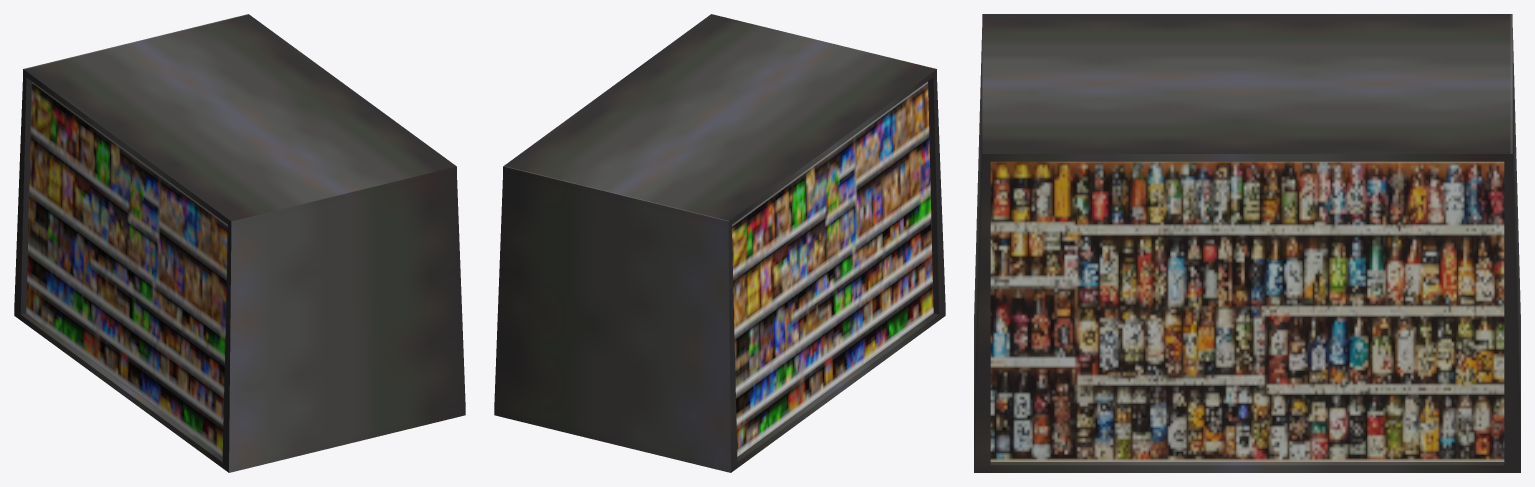
The model's file is grocery_store_ALCOOOL 1.fbx.
The picture shows the model from 3 angles, left to right: view 1: azimuth 30°, elevation 25°; view 2: azimuth 150°, elevation 25°; view 3: azimuth 270°, elevation 25°; orthographic projection. The views are drawn at different scales.
Parts seen in each view (by area): view 1: grocery_store_ALCOOOL; view 2: grocery_store_ALCOOOL; view 3: grocery_store_ALCOOOL.
Part boxes in pixels (x1,y1,x2,y2): grocery_store_ALCOOOL: (14, 14, 465, 472); grocery_store_ALCOOOL: (494, 14, 945, 472); grocery_store_ALCOOOL: (974, 14, 1520, 472).
Bounding box in the file's own units: 271 × 271 × 426.
